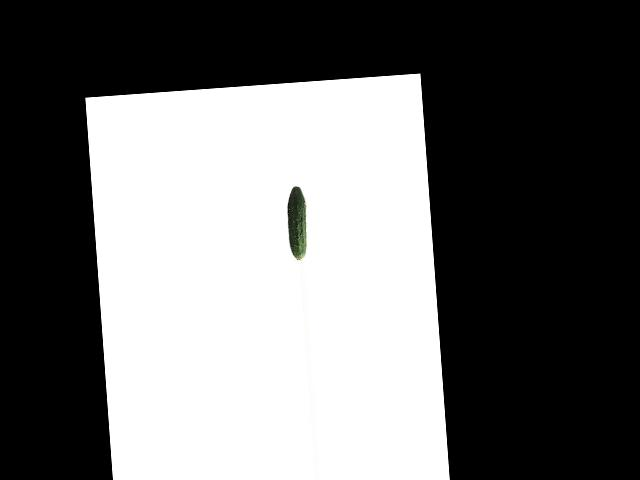cucumber: (285, 185, 309, 260)
